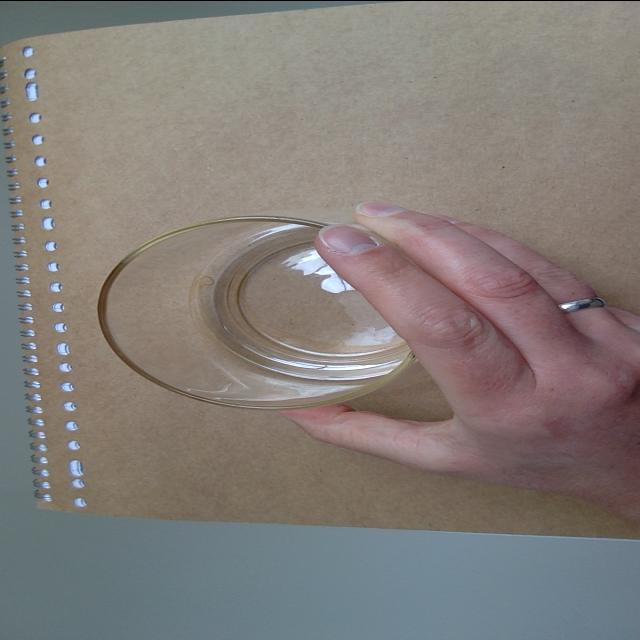cup of coffee: (85, 188, 441, 420)
